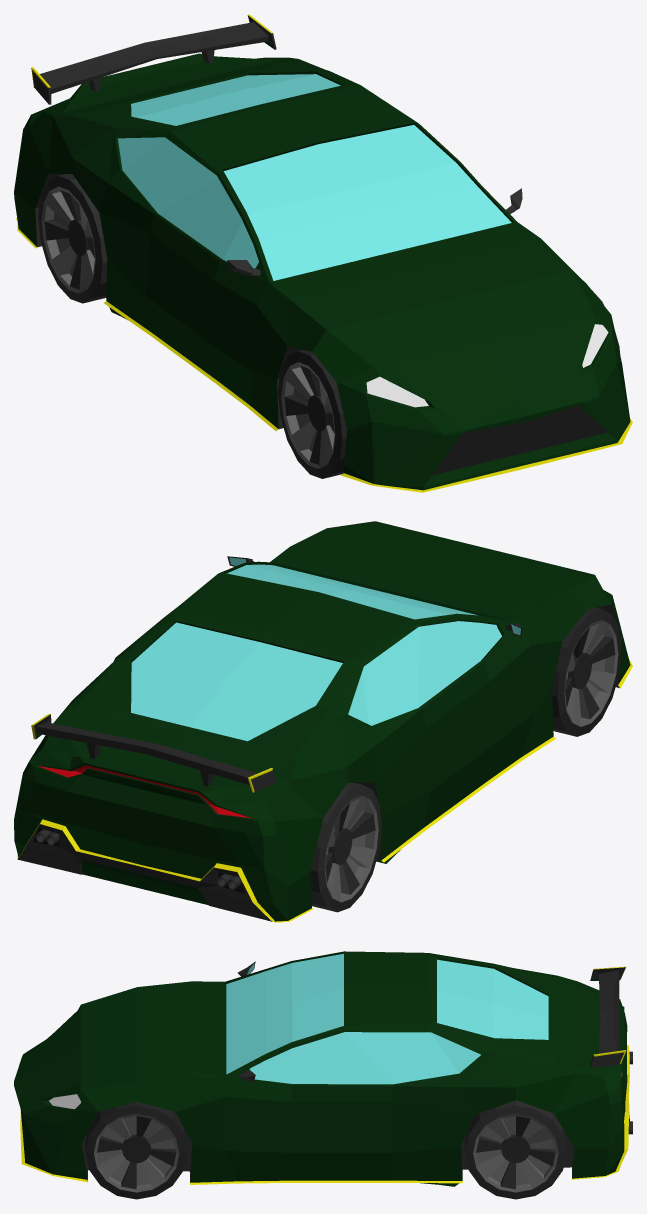
File: AstonMartin.fbx
The picture shows the model from 3 angles, top to bottom: view 1: azimuth 30°, elevation 25°; view 2: azimuth 150°, elevation 25°; view 3: azimuth 270°, elevation 25°; orthographic projection. The views are drawn at different scales.
Visible parts, largest first — view 1: Body, Windows, Black parts, Back wheel right, Front wheel right, Yellow parts; view 2: Body, Windows, Black parts, Back wheel right, Front wheel right, Yellow parts, Brake lights; view 3: Body, Windows, Front wheel left, Back wheel left, Black parts, Yellow parts.
Part boxes in pixels (x1,y1,x2,y2): Body: (14,53,630,490); Windows: (118,74,608,407); Black parts: (32,15,608,475); Back wheel right: (38,174,107,303); Front wheel right: (278,350,346,478); Yellow parts: (16,14,632,492); Body: (14,521,630,921); Windows: (131,557,520,741); Black parts: (17,556,621,921); Back wheel right: (310,783,381,912); Front wheel right: (552,608,621,736); Yellow parts: (17,657,632,922); Brake lights: (38,765,251,818); Body: (14,951,627,1182); Windows: (49,953,548,1109); Front wheel left: (85,1102,187,1199); Back wheel left: (465,1100,566,1199); Black parts: (81,961,632,1186); Yellow parts: (20,966,629,1184).
Size of the model in its own units: 194 by 127 by 447.
